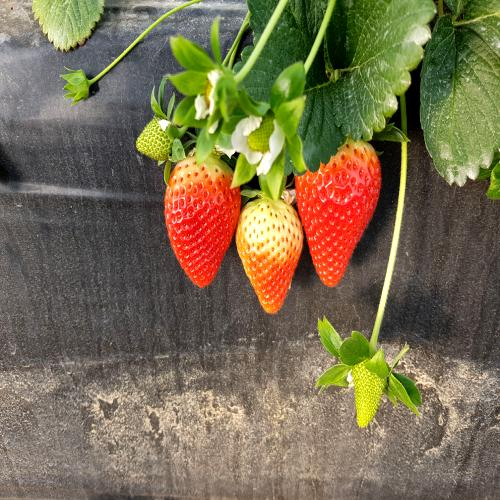ripe: (289, 115, 381, 293), (160, 142, 245, 305)
